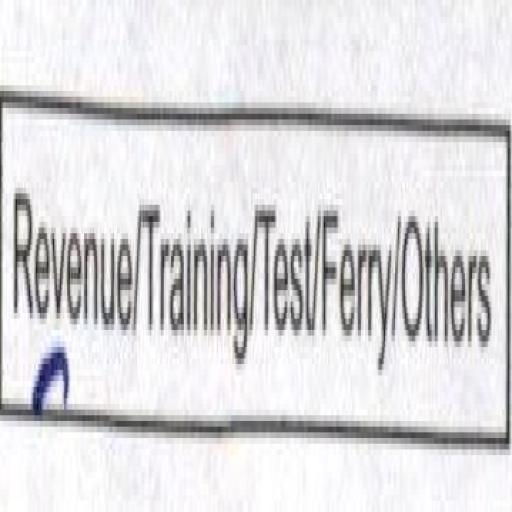check: (4, 110, 138, 472)
